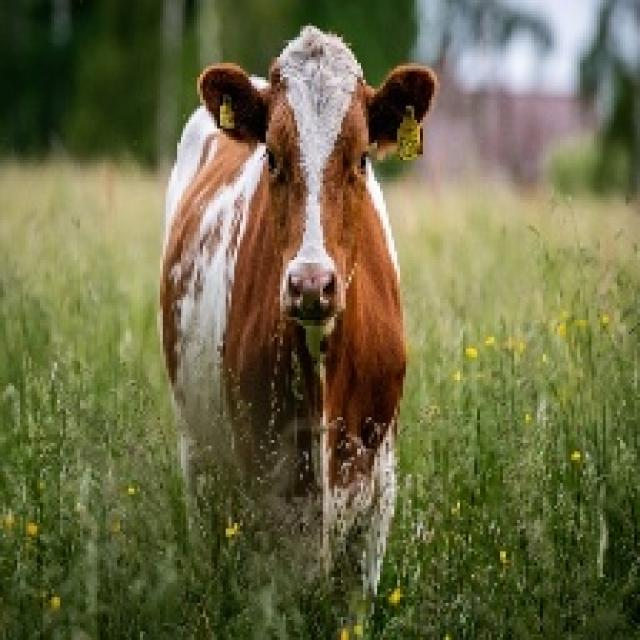animal: (147, 37, 557, 586)
